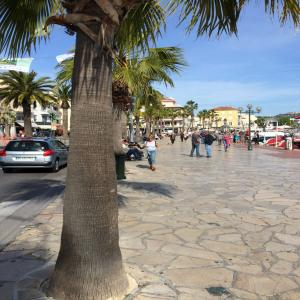Vehicle-registration-plate: (14, 159, 37, 162)
